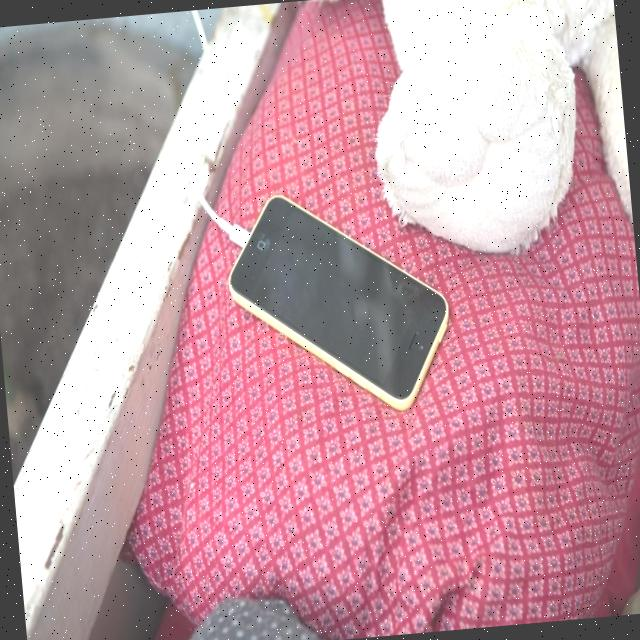Phone: (212, 170, 460, 430)
